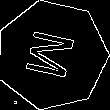M_E: (22, 27, 83, 83)
